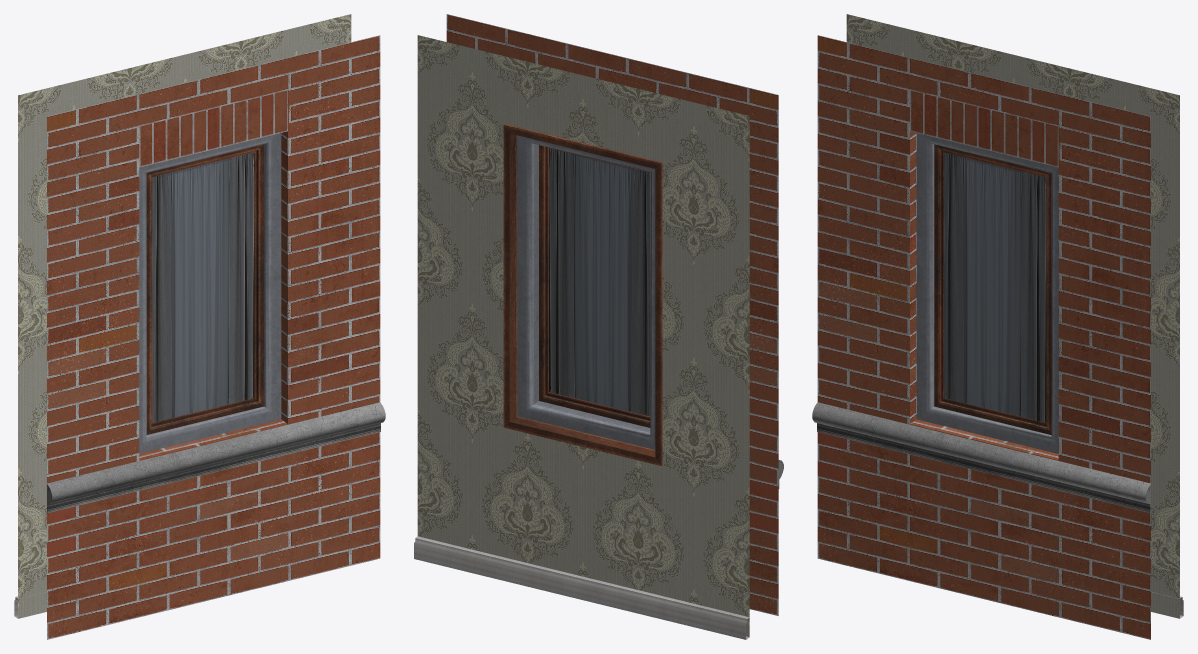
Rendered from House_05_Window_08.fbx.
The picture shows the model from 3 angles, left to right: view 1: azimuth 30°, elevation 25°; view 2: azimuth 150°, elevation 25°; view 3: azimuth 330°, elevation 25°; orthographic projection.
Visible parts, largest first — view 1: House_05_Window_08_LOD0; view 2: House_05_Window_08_LOD0; view 3: House_05_Window_08_LOD0.
Part boxes in pixels (x1,y1,x2,y2): House_05_Window_08_LOD0: (14,14,385,639); House_05_Window_08_LOD0: (414,14,783,639); House_05_Window_08_LOD0: (812,14,1183,639).
Size of what is drawn, in the model's own units: 200 by 300 by 39.57.
